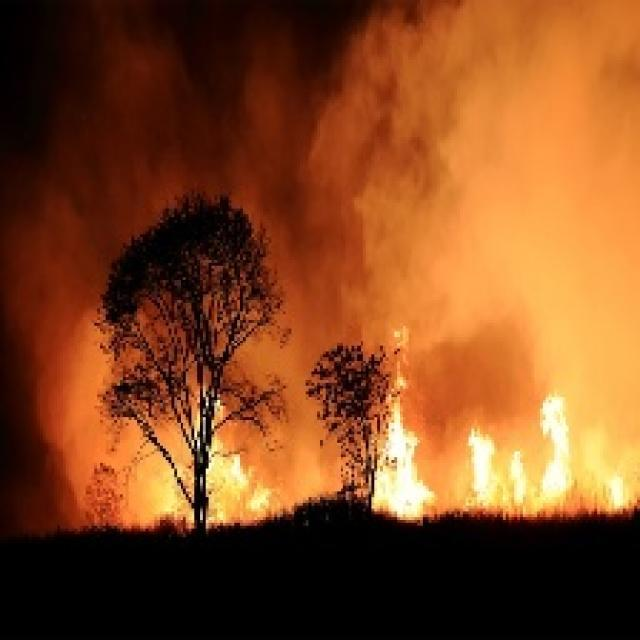Fire: (467, 394, 574, 504), (372, 402, 434, 517)
